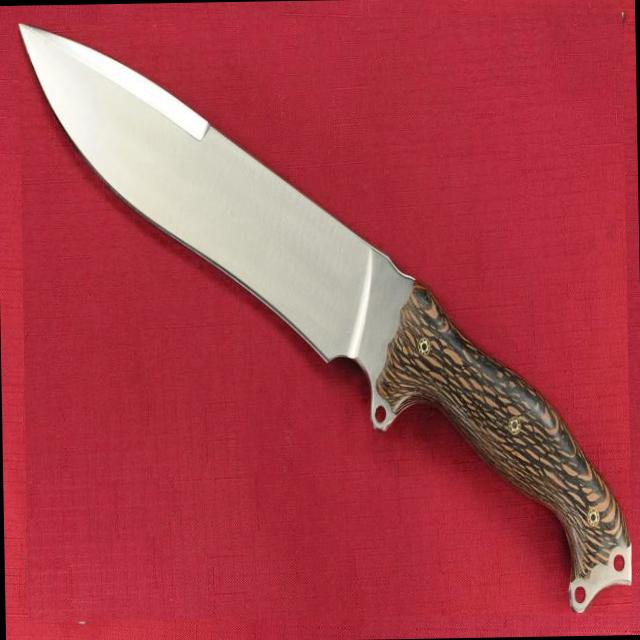Knife: (19, 24, 631, 612)
